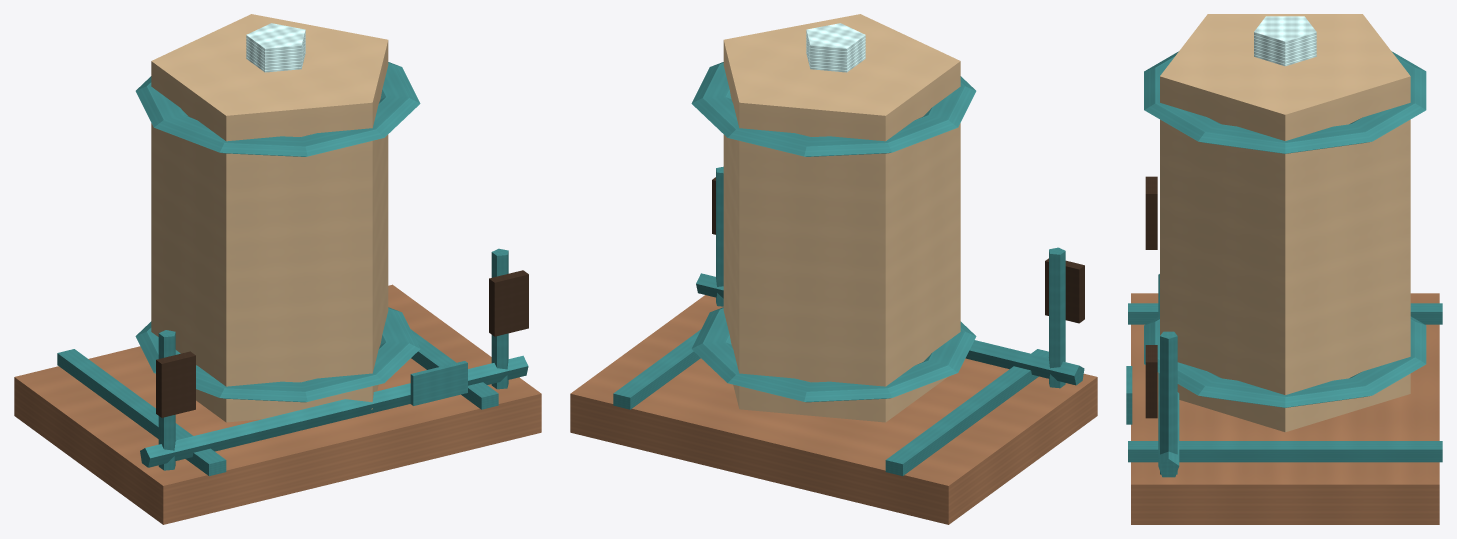
Rendered from atlas100-s098-a06.lod1.glb.
3 views of the same model, side by side, from view 1: azimuth 30°, elevation 25°; view 2: azimuth 150°, elevation 25°; view 3: azimuth 270°, elevation 25° (orthographic). The views are drawn at different scales.
Visible parts, largest first — view 1: atlas100-s098-a06:part-003, atlas100-s098-a06:part-000, atlas100-s098-a06:part-005, atlas100-s098-a06:part-012, atlas100-s098-a06:part-004, atlas100-s098-a06:part-001, atlas100-s098-a06:part-006, atlas100-s098-a06:part-011, atlas100-s098-a06:part-009, atlas100-s098-a06:part-013, atlas100-s098-a06:part-002, atlas100-s098-a06:part-010 (+1 smaller); view 2: atlas100-s098-a06:part-003, atlas100-s098-a06:part-000, atlas100-s098-a06:part-005, atlas100-s098-a06:part-004, atlas100-s098-a06:part-001, atlas100-s098-a06:part-012, atlas100-s098-a06:part-006, atlas100-s098-a06:part-002, atlas100-s098-a06:part-008, atlas100-s098-a06:part-009, atlas100-s098-a06:part-010; view 3: atlas100-s098-a06:part-003, atlas100-s098-a06:part-000, atlas100-s098-a06:part-005, atlas100-s098-a06:part-002, atlas100-s098-a06:part-004, atlas100-s098-a06:part-006, atlas100-s098-a06:part-010, atlas100-s098-a06:part-001, atlas100-s098-a06:part-009, atlas100-s098-a06:part-011, atlas100-s098-a06:part-012, atlas100-s098-a06:part-013.
Part boxes in pixels (<box>): atlas100-s098-a06:part-003: <box>151,14,388,422</box>; atlas100-s098-a06:part-000: <box>14,284,541,524</box>; atlas100-s098-a06:part-005: <box>135,62,420,156</box>; atlas100-s098-a06:part-012: <box>140,355,528,467</box>; atlas100-s098-a06:part-004: <box>135,307,420,402</box>; atlas100-s098-a06:part-001: <box>57,349,226,476</box>; atlas100-s098-a06:part-006: <box>246,23,305,72</box>; atlas100-s098-a06:part-011: <box>489,270,528,336</box>; atlas100-s098-a06:part-009: <box>156,351,195,417</box>; atlas100-s098-a06:part-013: <box>410,361,467,405</box>; atlas100-s098-a06:part-002: <box>411,329,498,409</box>; atlas100-s098-a06:part-010: <box>491,248,508,389</box>; atlas100-s098-a06:part-003: <box>723,14,960,422</box>; atlas100-s098-a06:part-000: <box>570,295,1097,524</box>; atlas100-s098-a06:part-005: <box>691,62,976,156</box>; atlas100-s098-a06:part-004: <box>691,307,976,402</box>; atlas100-s098-a06:part-001: <box>885,349,1048,476</box>; atlas100-s098-a06:part-012: <box>696,273,1084,385</box>; atlas100-s098-a06:part-006: <box>806,23,865,72</box>; atlas100-s098-a06:part-002: <box>613,329,700,409</box>; atlas100-s098-a06:part-008: <box>1049,247,1065,388</box>; atlas100-s098-a06:part-009: <box>1045,258,1084,323</box>; atlas100-s098-a06:part-010: <box>716,166,723,306</box>; atlas100-s098-a06:part-003: <box>1160,14,1410,432</box>; atlas100-s098-a06:part-000: <box>1131,293,1439,524</box>; atlas100-s098-a06:part-005: <box>1144,51,1426,153</box>; atlas100-s098-a06:part-002: <box>1128,441,1442,462</box>; atlas100-s098-a06:part-004: <box>1144,316,1426,407</box>; atlas100-s098-a06:part-006: <box>1254,16,1316,66</box>; atlas100-s098-a06:part-010: <box>1160,331,1177,474</box>; atlas100-s098-a06:part-001: <box>1128,303,1442,324</box>; atlas100-s098-a06:part-009: <box>1145,176,1157,249</box>; atlas100-s098-a06:part-011: <box>1145,345,1157,418</box>; atlas100-s098-a06:part-012: <box>1158,274,1179,477</box>; atlas100-s098-a06:part-013: <box>1126,366,1132,424</box>.
Size of the model in its own units: 2.64 by 2.59 by 1.85.
5 materials, 5 textured.
